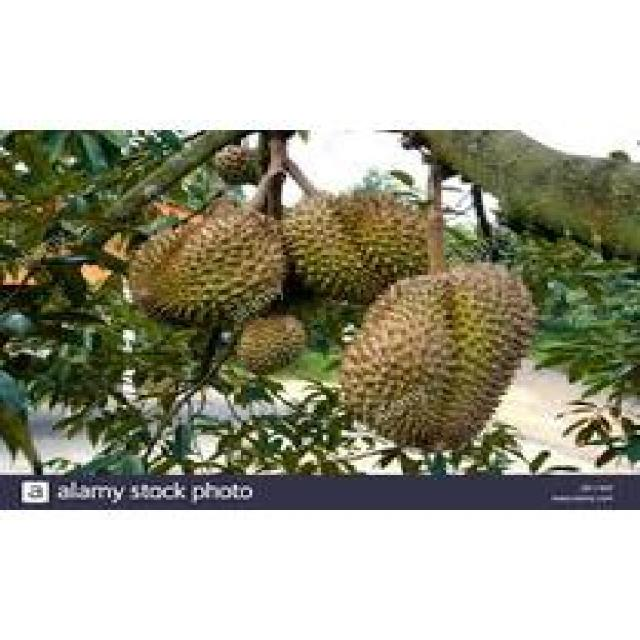fruit: (317, 238, 557, 468), (113, 182, 304, 348), (271, 167, 452, 325), (228, 305, 314, 383)
